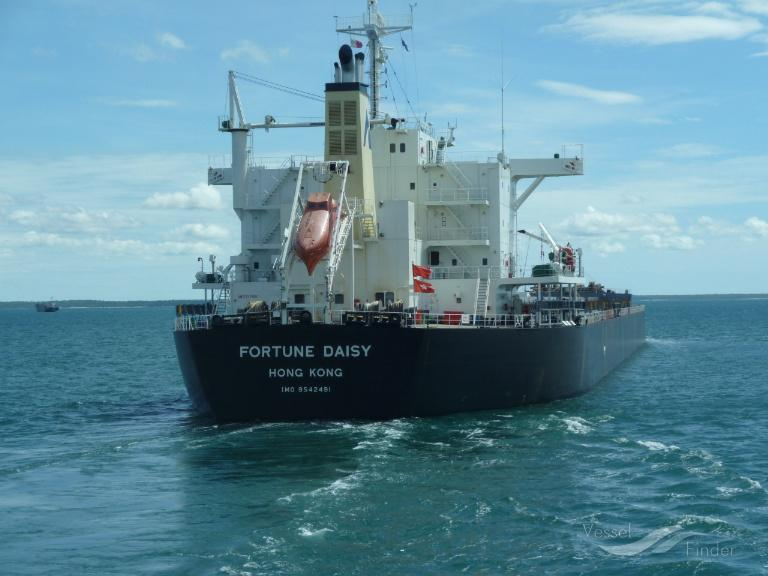OCR: (238, 336, 383, 409)
